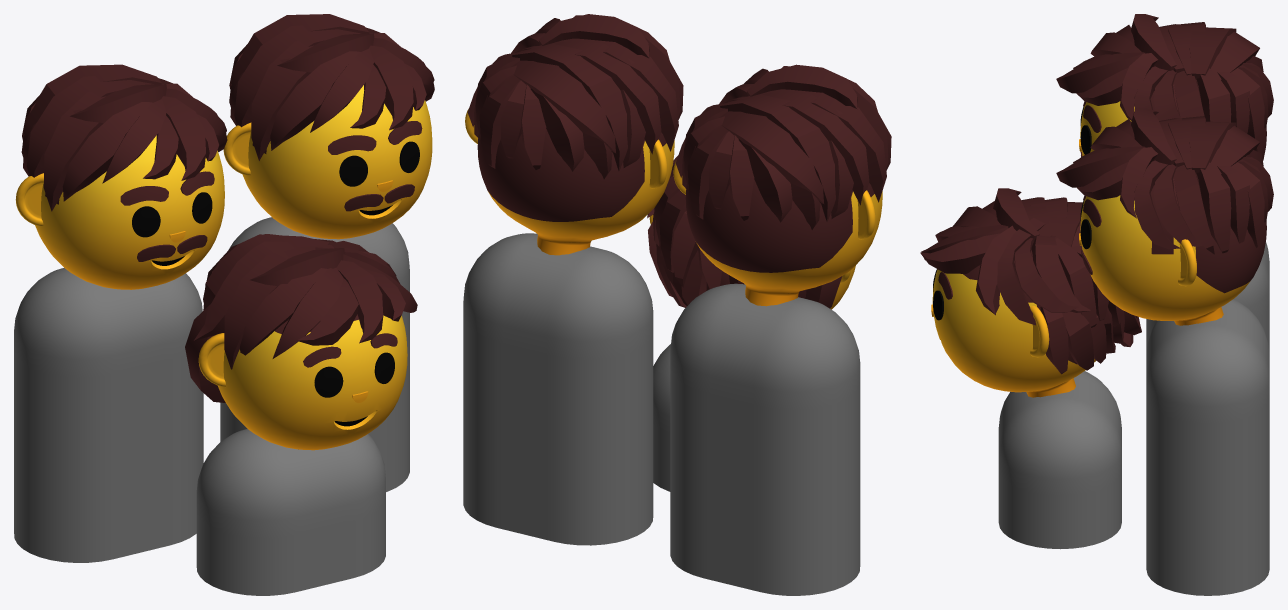
Rendered from family_man_man_boy.fbx.
3 views of the same model, side by side, from view 1: azimuth 30°, elevation 25°; view 2: azimuth 150°, elevation 25°; view 3: azimuth 270°, elevation 25° (orthographic). The views are drawn at different scales.
Visible parts, largest first — view 1: Sphere.274, Sphere.273, Cube.4081, Cube.4113, Cube.4135, Roundcube.328, Roundcube.329, Roundcube.330, Sphere.275, Circle.1455, Circle.1451, Circle.1448 (+8 smaller); view 2: Sphere.275, Sphere.274, Cube.4135, Cube.4113, Roundcube.330, Roundcube.329, Cube.4081, Sphere.273, Cylinder.060, Cylinder.061; view 3: Sphere.275, Cube.4135, Cube.4081, Sphere.273, Cube.4113, Roundcube.330, Roundcube.328, Sphere.274, Roundcube.329, Cylinder.059, Cylinder.061.
Part boxes in pixels (left/top/right/bottom): Sphere.274: left=14, top=268, right=203, bottom=562; Sphere.273: left=196, top=429, right=385, bottom=595; Cube.4081: left=185, top=234, right=417, bottom=402; Cube.4113: left=21, top=64, right=227, bottom=211; Cube.4135: left=229, top=14, right=434, bottom=160; Roundcube.328: left=218, top=314, right=407, bottom=450; Roundcube.329: left=35, top=135, right=224, bottom=289; Roundcube.330: left=242, top=85, right=432, bottom=239; Sphere.275: left=220, top=217, right=409, bottom=491; Circle.1455: left=339, top=141, right=419, bottom=186; Circle.1451: left=132, top=192, right=212, bottom=237; Circle.1448: left=314, top=352, right=394, bottom=397; Sphere.275: left=463, top=233, right=653, bottom=545; Sphere.274: left=670, top=283, right=860, bottom=595; Cube.4135: left=467, top=14, right=683, bottom=179; Cube.4113: left=675, top=64, right=891, bottom=229; Roundcube.330: left=477, top=128, right=674, bottom=255; Roundcube.329: left=685, top=179, right=882, bottom=306; Cube.4081: left=647, top=155, right=842, bottom=308; Sphere.273: left=653, top=344, right=670, bottom=491; Cylinder.060: left=673, top=160, right=875, bottom=239; Cylinder.061: left=465, top=108, right=666, bottom=188; Sphere.275: left=1146, top=299, right=1269, bottom=595; Cube.4135: left=1056, top=108, right=1273, bottom=254; Cube.4081: left=920, top=188, right=1141, bottom=374; Sphere.273: left=998, top=371, right=1121, bottom=549; Cube.4113: left=1056, top=14, right=1273, bottom=151; Roundcube.330: left=1080, top=161, right=1266, bottom=325; Roundcube.328: left=932, top=250, right=1095, bottom=397; Sphere.274: left=1146, top=242, right=1269, bottom=354; Roundcube.329: left=1080, top=67, right=1266, bottom=160; Cylinder.059: left=1030, top=306, right=1049, bottom=357; Cylinder.061: left=1177, top=239, right=1196, bottom=286.
Size of the model in its own units: 235 by 258 by 190.
1 material, 1 textured.
